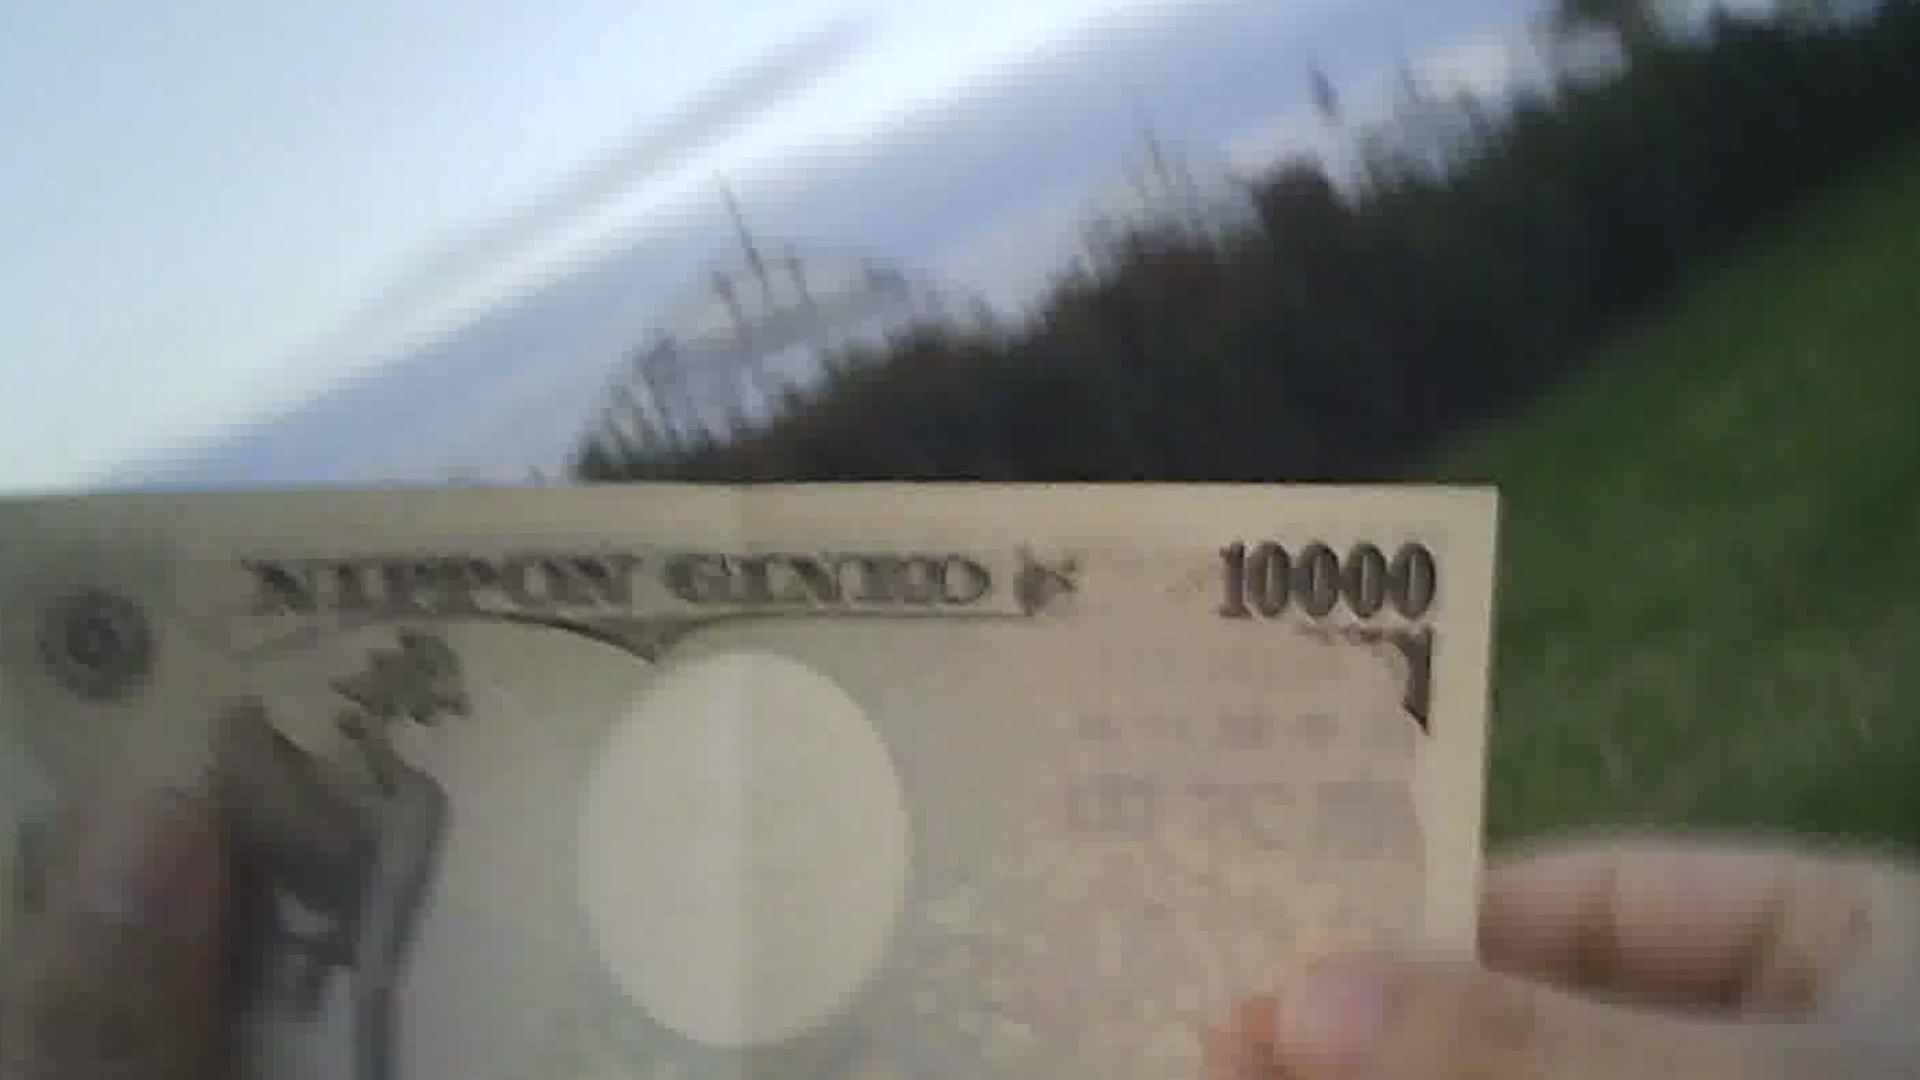10,000 Yen: (63, 442, 1568, 1033)
